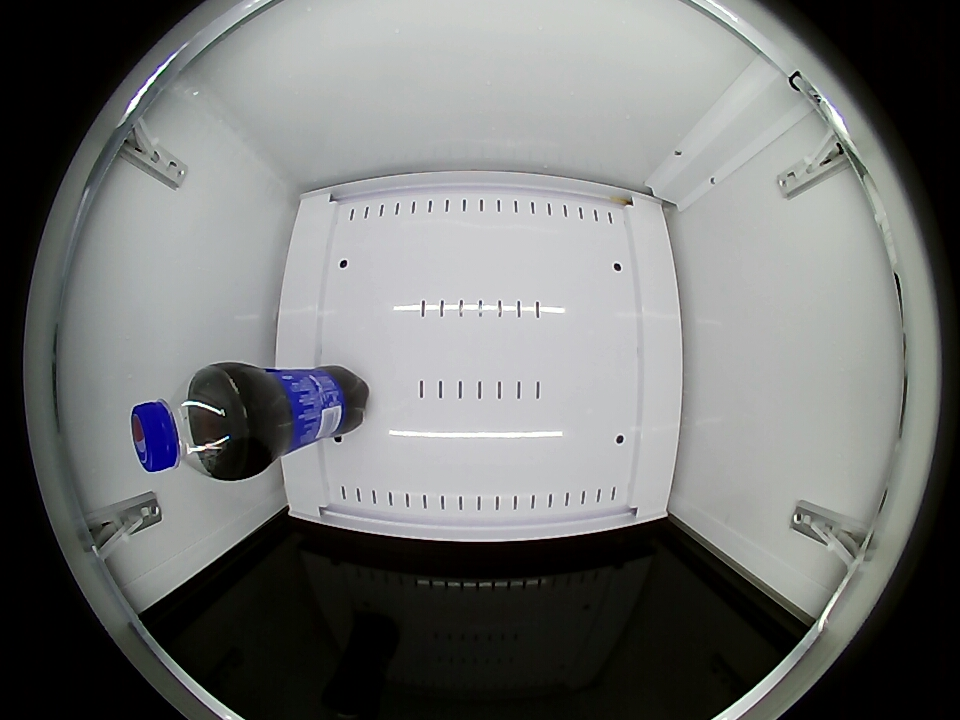baishikele-2: (131, 370, 244, 478)
